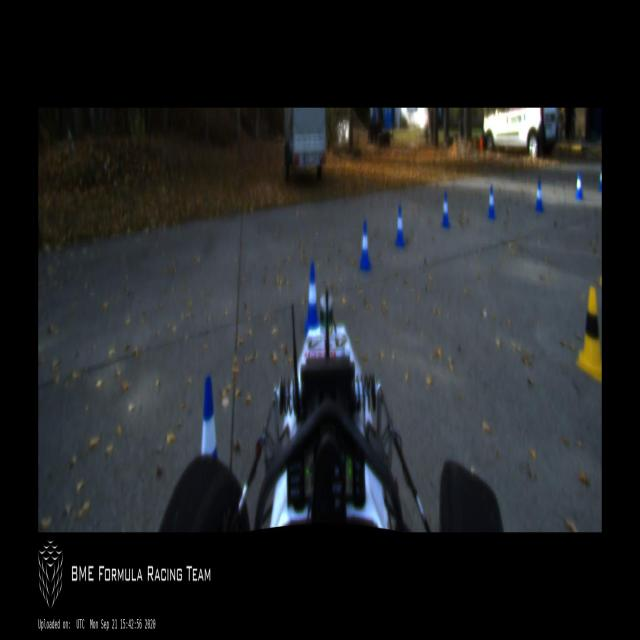blue_cone: (202, 375, 218, 456), (305, 261, 319, 334), (359, 220, 371, 271), (395, 205, 405, 248), (535, 177, 545, 212), (441, 190, 450, 228), (486, 184, 496, 218), (575, 172, 584, 199), (598, 167, 602, 191)
yellow_cone: (576, 286, 602, 384)
